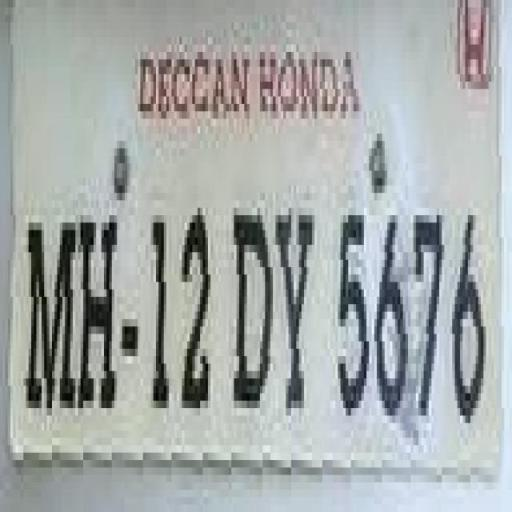number plate: (0, 134, 507, 482)
